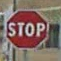stop: (4, 7, 49, 51)
